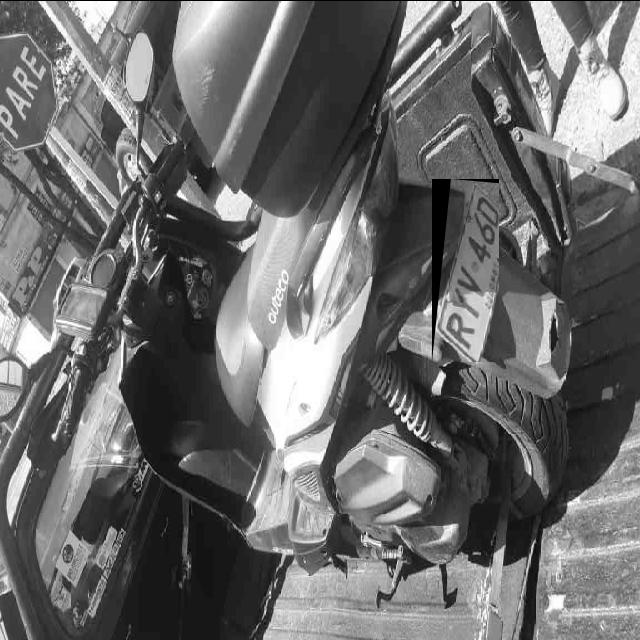plate: (435, 179, 499, 361)
